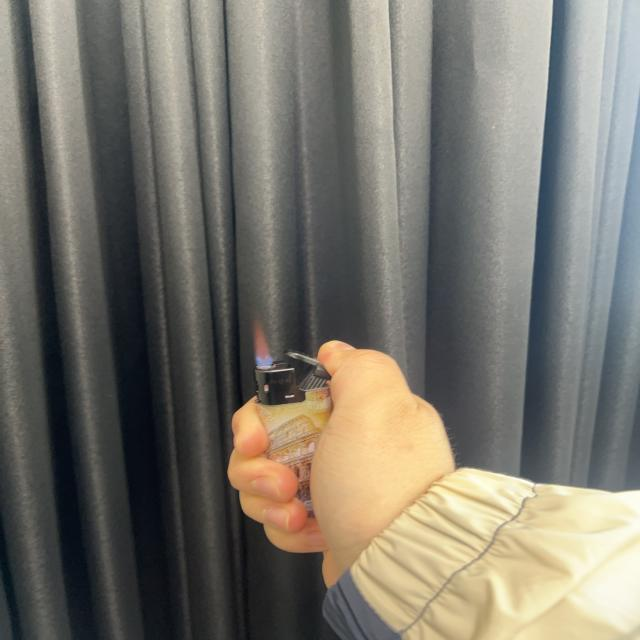fire: (254, 316, 276, 371)
